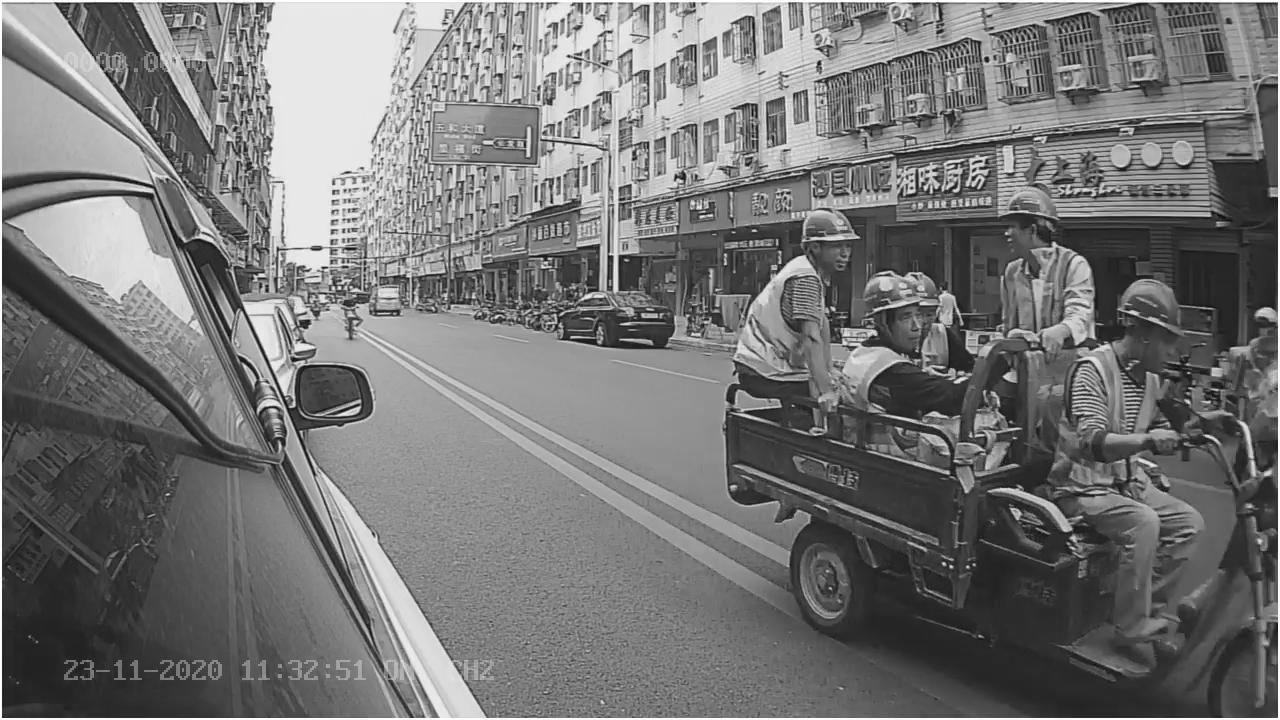person: (1063, 265, 1232, 461)
